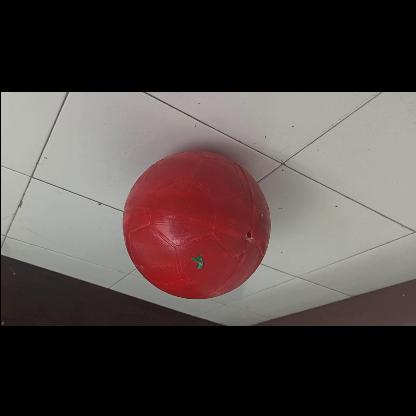red_ball: (122, 150, 272, 300)
